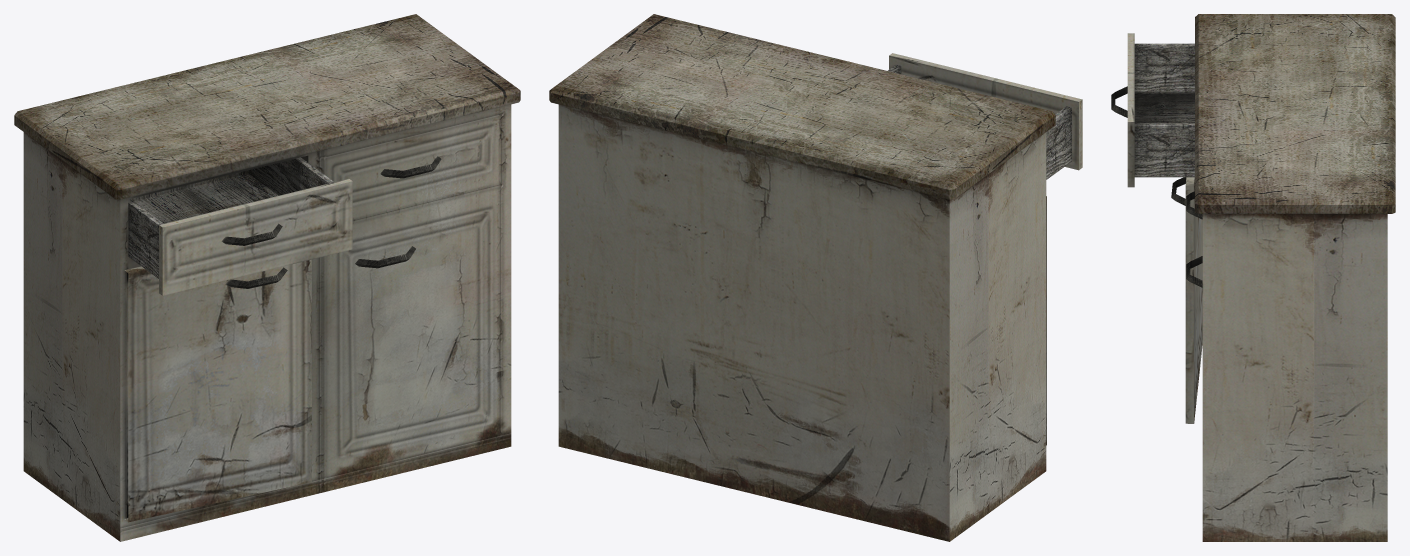
The model's file is KithenTable2.fbx.
3 renders of one model, left to right at view 1: azimuth 30°, elevation 25°; view 2: azimuth 150°, elevation 25°; view 3: azimuth 270°, elevation 25°, orthographic. The views are drawn at different scales.
Visible parts, largest first — view 1: Box002, Box002.001; view 2: Box002; view 3: Box002, Box002.001.
Boxes of the visible parts, box(x1,y1,x2,y2) form: Box002: box(14, 14, 520, 541); Box002.001: box(124, 259, 311, 522); Box002: box(549, 14, 1082, 541); Box002: box(1111, 14, 1395, 541); Box002.001: box(1171, 177, 1202, 423).
Bounding box in the file's own units: 124 × 105 × 78.6.
